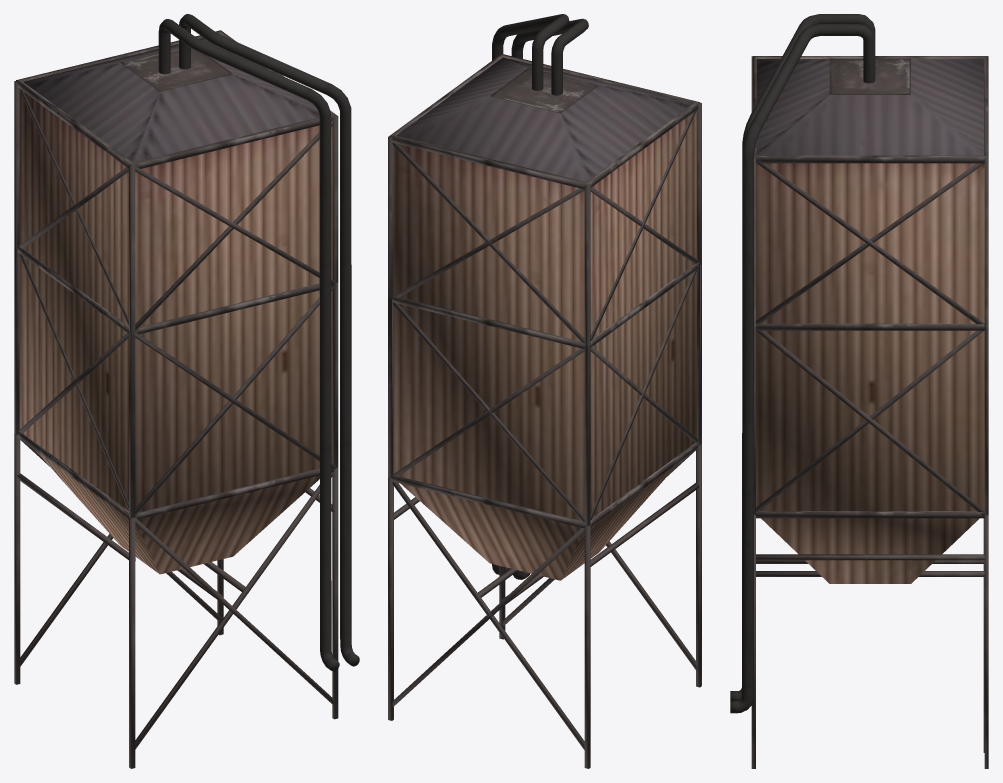
File: Tank_2.glb
3 views of the same model, side by side, from view 1: azimuth 30°, elevation 25°; view 2: azimuth 150°, elevation 25°; view 3: azimuth 270°, elevation 25° (orthographic). The views are drawn at different scales.
Parts seen in each view (by area): view 1: Tank_2; view 2: Tank_2; view 3: Tank_2.
Boxes of the visible parts, x1,y1,x2,y2 form: Tank_2: [14, 14, 359, 768]; Tank_2: [388, 14, 701, 768]; Tank_2: [730, 14, 988, 768].
Size of the model in its own units: 4.87 by 14.69 by 4.94.
1 material, 1 textured.
